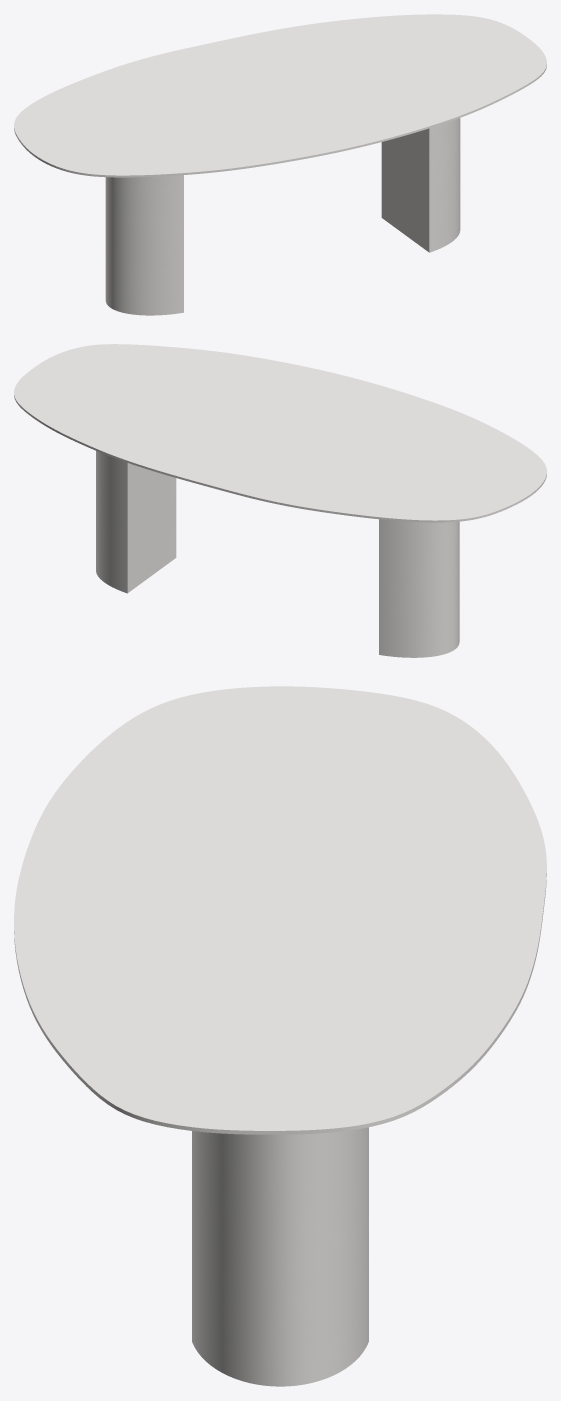
File: purewhite_danish_facet_hillside.glb
3 views of the same model, one above another, from view 1: azimuth 30°, elevation 25°; view 2: azimuth 150°, elevation 25°; view 3: azimuth 270°, elevation 25° (orthographic). The views are drawn at different scales.
Parts seen in each view (by area): view 1: facet_danish, hillside; view 2: facet_danish, hillside; view 3: facet_danish, hillside.
Boxes of the visible parts, <box> form: facet_danish: <box>14,14,546,177</box>; hillside: <box>105,118,460,315</box>; facet_danish: <box>14,344,546,522</box>; hillside: <box>96,451,459,657</box>; facet_danish: <box>14,686,546,1134</box>; hillside: <box>192,1127,368,1386</box>.
Size of the model in its own units: 7.5 by 2.5 by 3.8.
1 material, 1 textured.
